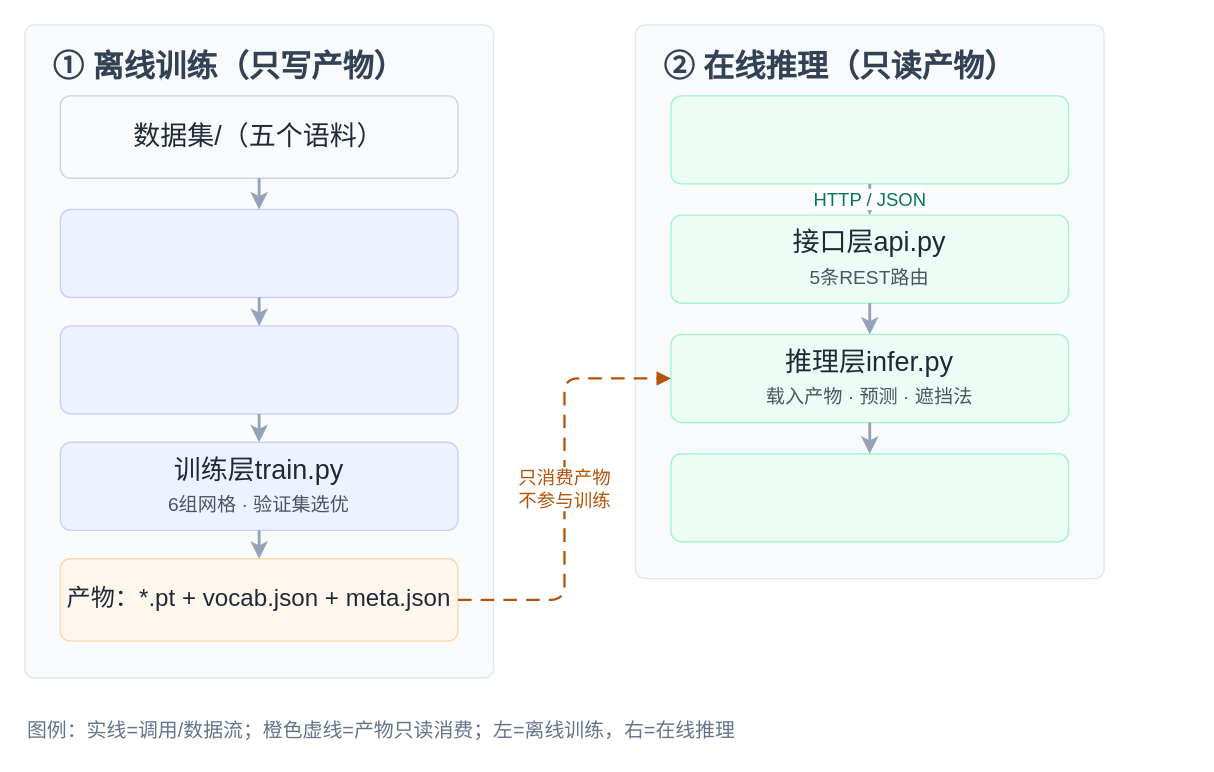
The diagram is 1214 pixels wide and 772 high, and some of its shapes have lost their labels. The shapes that lost their labels are listed below. From the top down, each one's centre as x and y in pixels, then its label:
At point 869,139: "前端React 单条 / 批量 / 参数调节".
At point 258,252: "数据层data.py 下载 · 校验 · 分词 · 建表 · 编码".
At point 258,369: "模型层model.py Embedding + LSTM + Linear".
At point 869,497: "概率 → 阈值 → 标签 阈值只在前端，拖动不发请求".
